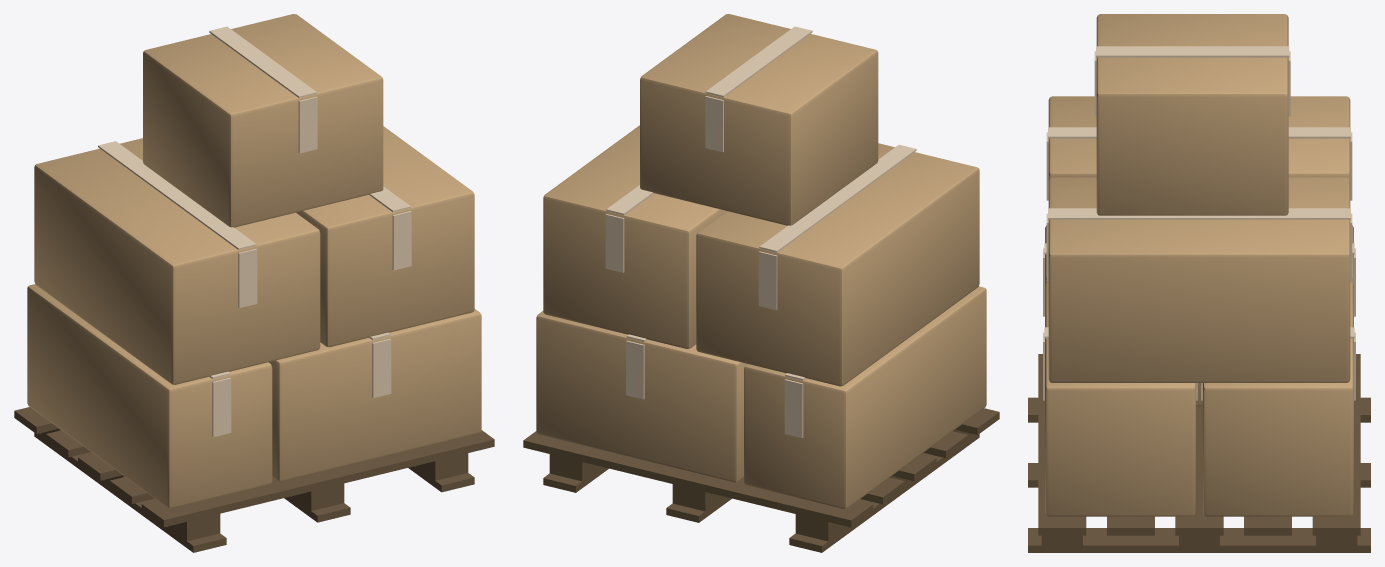
File: cargo_cluster_a.glb
The picture shows the model from 3 angles, left to right: view 1: azimuth 30°, elevation 25°; view 2: azimuth 150°, elevation 25°; view 3: azimuth 270°, elevation 25°; orthographic projection. The views are drawn at different scales.
Parts seen in each view (by area): view 1: Box_L2_1, Box_L3_1, Box_L1_1, Box_L1_2, Box_L2_2, PalletA_Deck_-0.4, Box_L2_1_Tape_Top, Box_L3_1_Tape_Top, PalletA_Runner_-0.45, Box_L2_1_Tape_SideB, Box_L2_2_Tape_SideB, Box_L1_1_Tape_SideB (+11 smaller); view 2: Box_L2_1, Box_L3_1, Box_L1_1, Box_L1_3, Box_L2_2, PalletA_Deck_0.4, Box_L2_1_Tape_Top, Box_L3_1_Tape_Top, PalletA_Runner_-0.45, Box_L2_2_Tape_SideF, Box_L2_1_Tape_SideF, Box_L1_1_Tape_SideF (+12 smaller); view 3: Box_L2_2, Box_L3_1, Box_L1_2, Box_L1_3, Box_L2_1, PalletA_Runner_0.45, Box_L3_1_Tape_Top, Box_L2_2_Tape_Top, PalletA_Deck_0.4, PalletA_Deck_-0.4, PalletA_Deck_0.0, Box_L2_1_Tape_Top (+7 smaller).
Part boxes in pixels (x1=…): Box_L2_1: x1=34, y1=138, x2=320, y2=384; Box_L3_1: x1=143, y1=14, x2=383, y2=227; Box_L1_1: x1=27, y1=284, x2=272, y2=508; Box_L1_2: x1=269, y1=309, x2=481, y2=481; Box_L2_2: x1=296, y1=126, x2=474, y2=347; PalletA_Deck_-0.4: x1=141, y1=430, x2=494, y2=527; Box_L2_1_Tape_Top: x1=98, y1=141, x2=256, y2=249; Box_L3_1_Tape_Top: x1=209, y1=26, x2=316, y2=98; PalletA_Runner_-0.45: x1=34, y1=433, x2=226, y2=552; Box_L2_1_Tape_SideB: x1=238, y1=248, x2=257, y2=307; Box_L2_2_Tape_SideB: x1=392, y1=211, x2=411, y2=270; Box_L1_1_Tape_SideB: x1=212, y1=377, x2=231, y2=437; Box_L2_1: x1=696, y1=143, x2=979, y2=386; Box_L3_1: x1=640, y1=14, x2=878, y2=225; Box_L1_1: x1=744, y1=286, x2=986, y2=508; Box_L1_3: x1=536, y1=311, x2=746, y2=482; Box_L2_2: x1=543, y1=125, x2=725, y2=348; PalletA_Deck_0.4: x1=523, y1=431, x2=873, y2=527; Box_L2_1_Tape_Top: x1=759, y1=144, x2=916, y2=252; Box_L3_1_Tape_Top: x1=705, y1=26, x2=812, y2=97; PalletA_Runner_-0.45: x1=789, y1=434, x2=979, y2=552; Box_L2_2_Tape_SideF: x1=605, y1=214, x2=624, y2=272; Box_L2_1_Tape_SideF: x1=758, y1=251, x2=777, y2=310; Box_L1_1_Tape_SideF: x1=784, y1=379, x2=803, y2=437; Box_L2_2: x1=1048, y1=177, x2=1350, y2=382; Box_L3_1: x1=1096, y1=14, x2=1288, y2=215; Box_L1_2: x1=1045, y1=282, x2=1195, y2=516; Box_L1_3: x1=1203, y1=282, x2=1353, y2=516; Box_L2_1: x1=1048, y1=96, x2=1350, y2=180; PalletA_Runner_0.45: x1=1028, y1=528, x2=1370, y2=552; Box_L3_1_Tape_Top: x1=1096, y1=46, x2=1289, y2=57; Box_L2_2_Tape_Top: x1=1048, y1=208, x2=1350, y2=219; PalletA_Deck_0.4: x1=1312, y1=354, x2=1360, y2=535; PalletA_Deck_-0.4: x1=1038, y1=354, x2=1086, y2=535; PalletA_Deck_0.0: x1=1175, y1=406, x2=1223, y2=535; Box_L2_1_Tape_Top: x1=1048, y1=127, x2=1350, y2=138.
Bounding box in the file's own units: 1.2 × 1.39 × 1.
